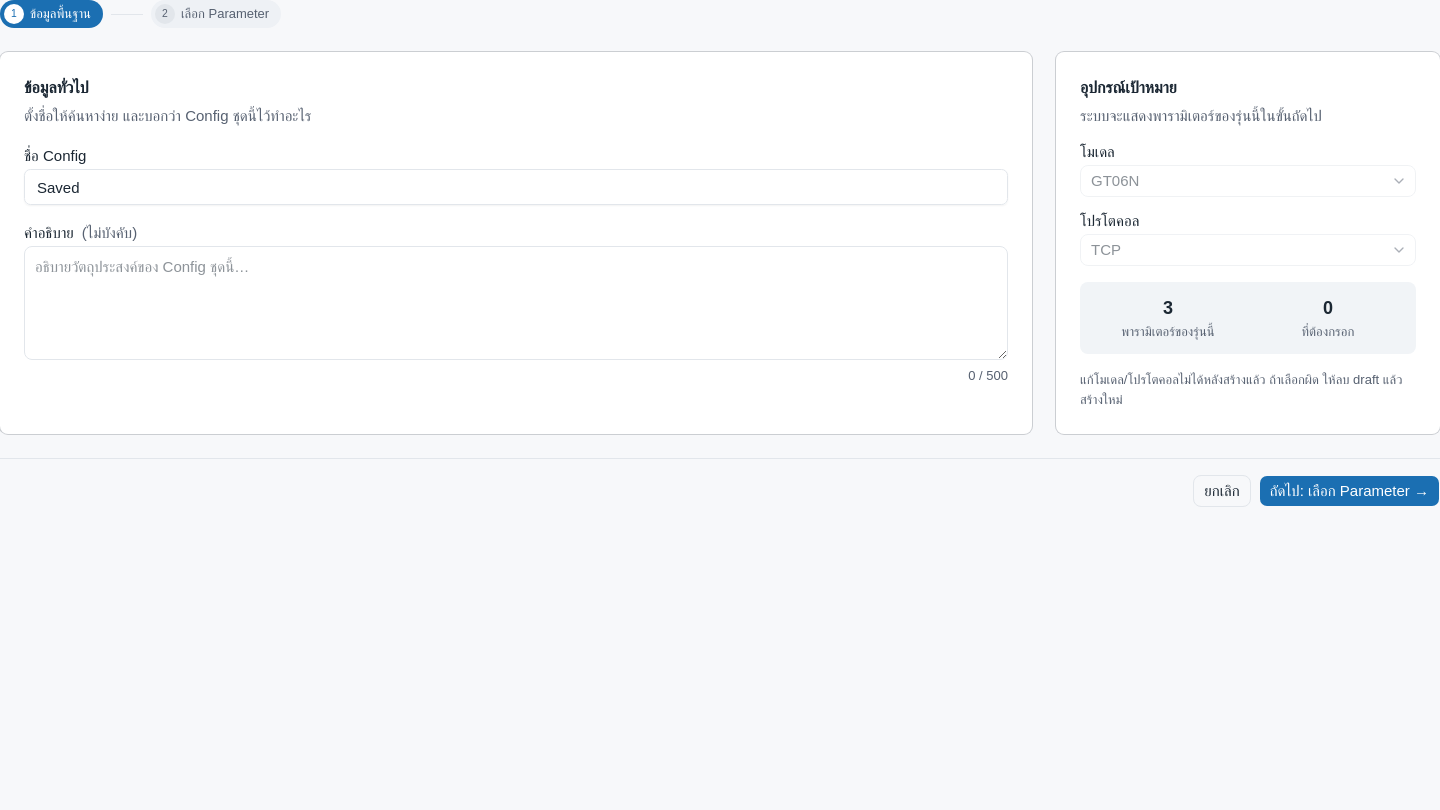
it: ConfigWizard editor — validation, diff, JSON mode, reset › รีเซ็ต: ต้องยืนยันก่อน แล้วค่ากลับเป็นฉบับที่บันทึกไว้
Step 1. Click the button "ถัดไป: เลือก Parameter →" → (1349, 491), box [1259,475,1439,507]
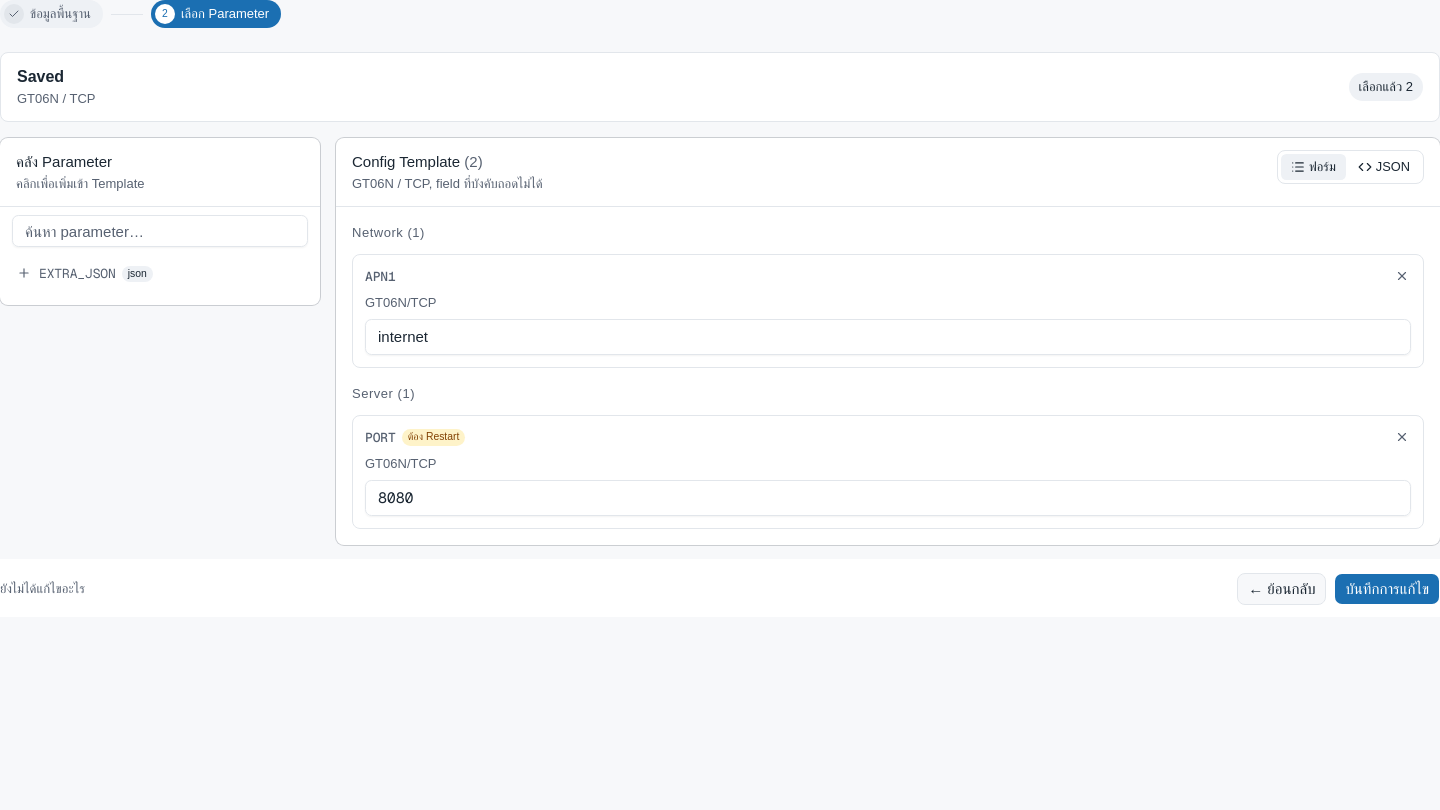
Step 2. Replace the text in the field with id "field-APN1" with "changed" → (888, 337), box [365,319,1411,355]
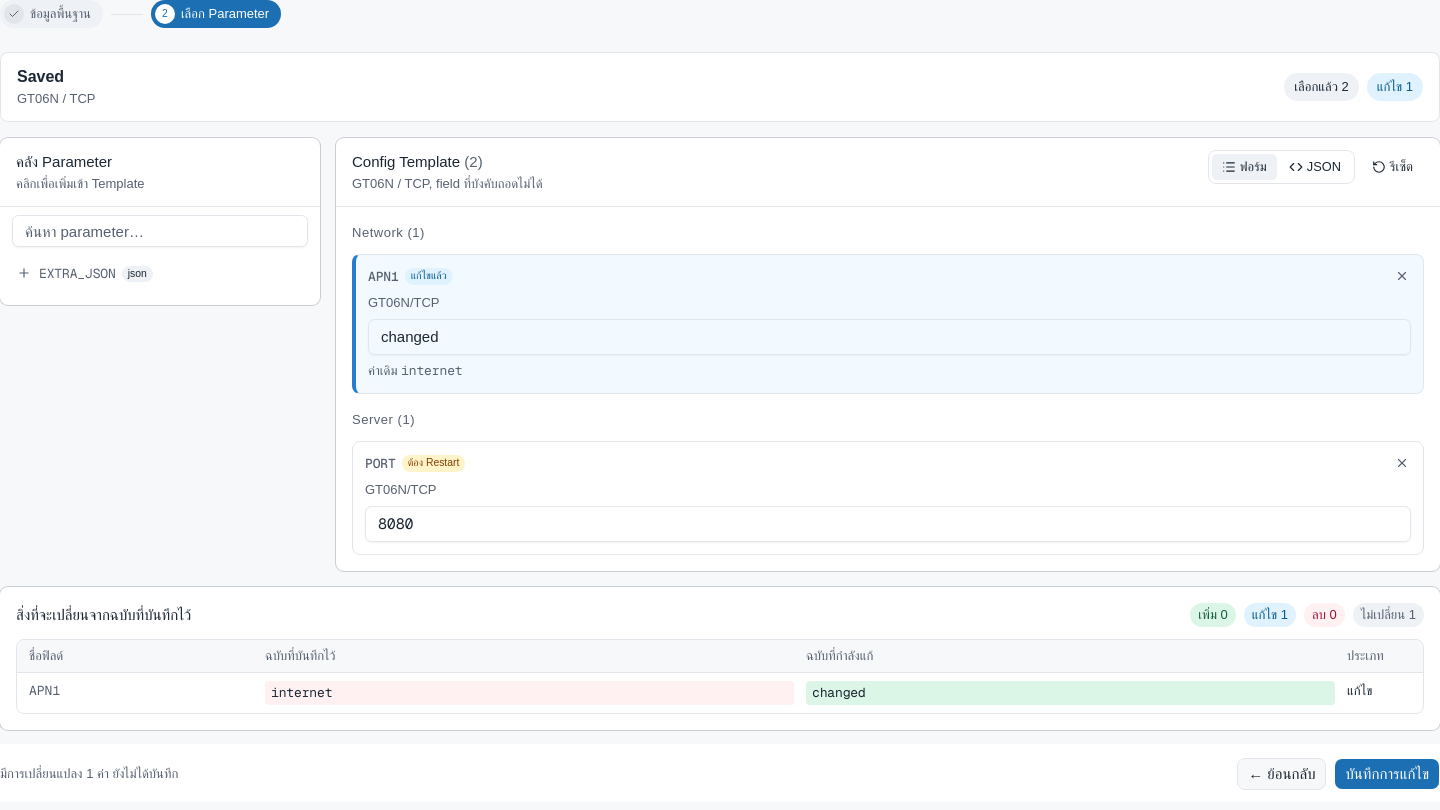
Step 3. Click the button "รีเซ็ต" → (1392, 167), box [1361,153,1424,181]
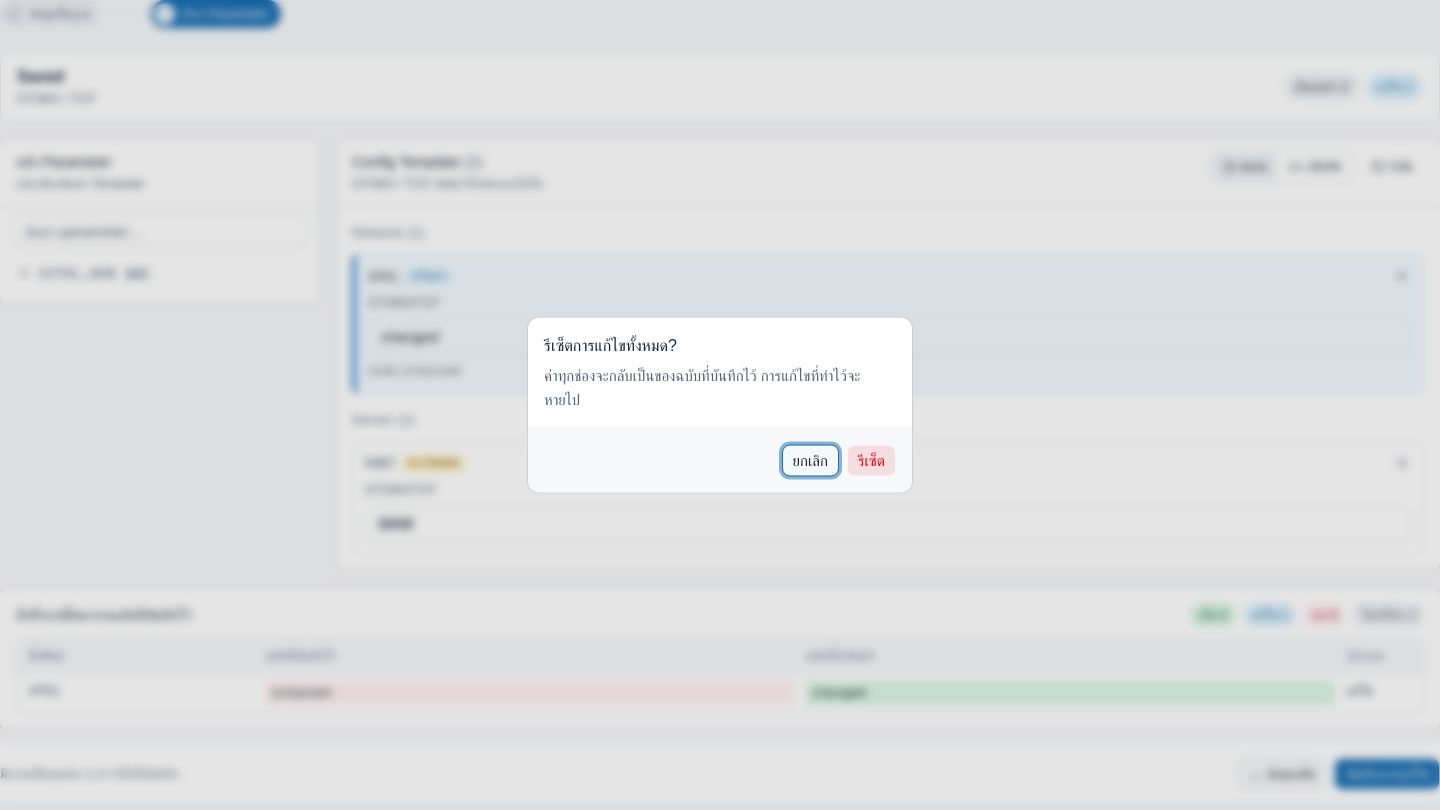
Expected: the text "การแก้ไขที่ทำไว้จะหายไป" is shown, [544,366,860,408]
Step 4. Click the button "รีเซ็ต" → (871, 460), box [847,444,896,476]
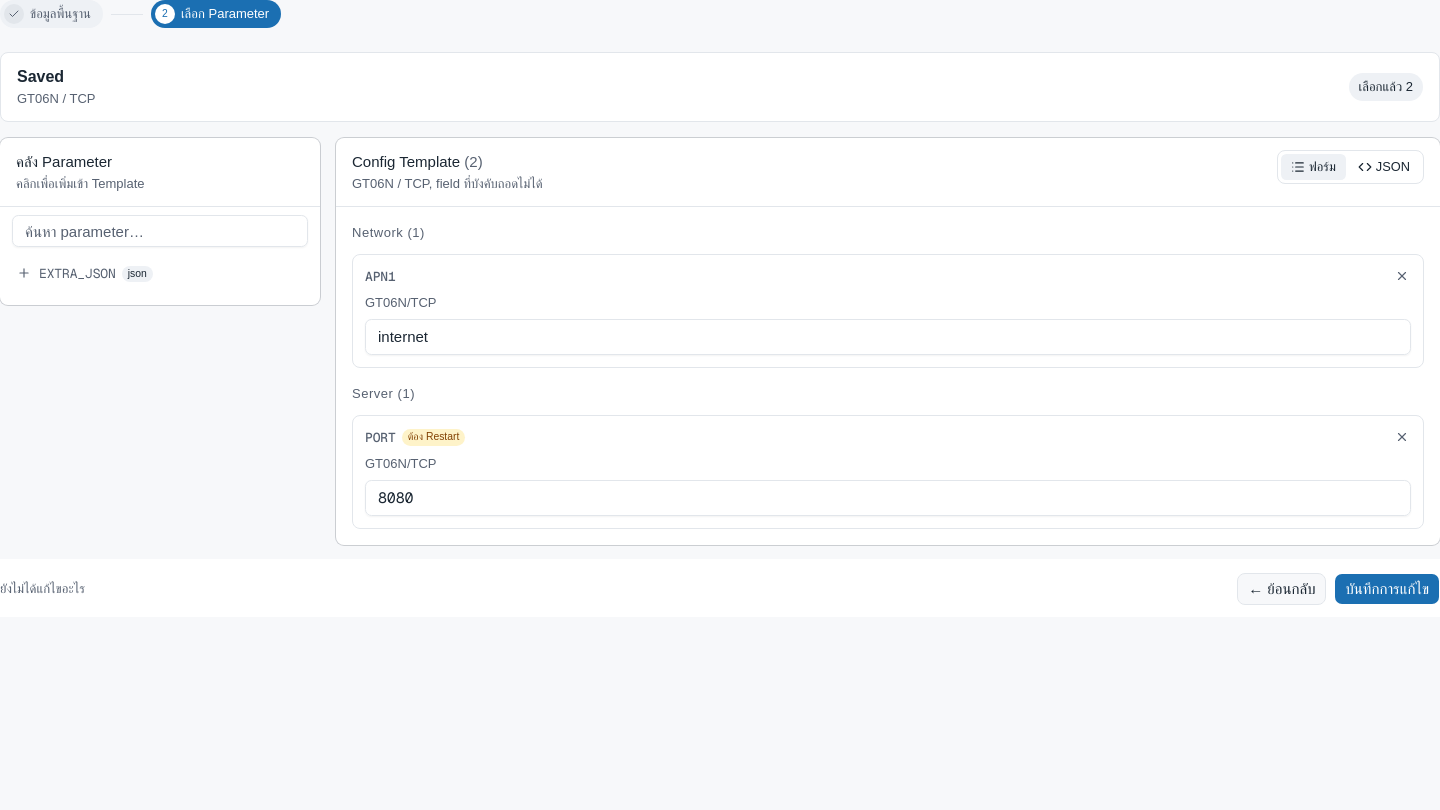
Expected: the field with id "field-APN1" holds "internet", [365,319,1411,355]
